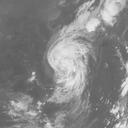cyclone: (46, 34, 94, 92)
